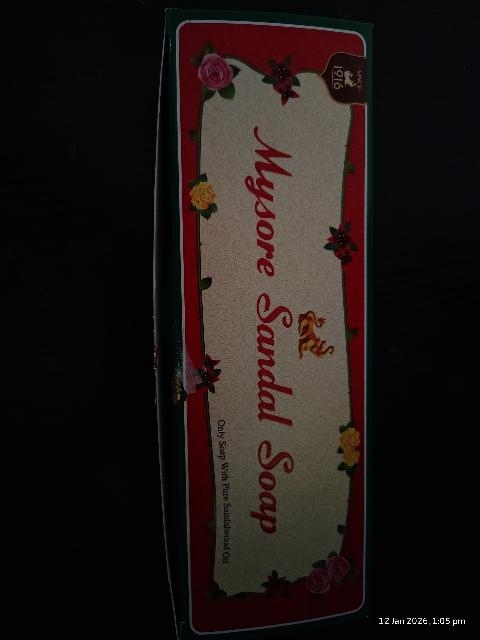mysore sandal soap: (145, 7, 378, 640)
